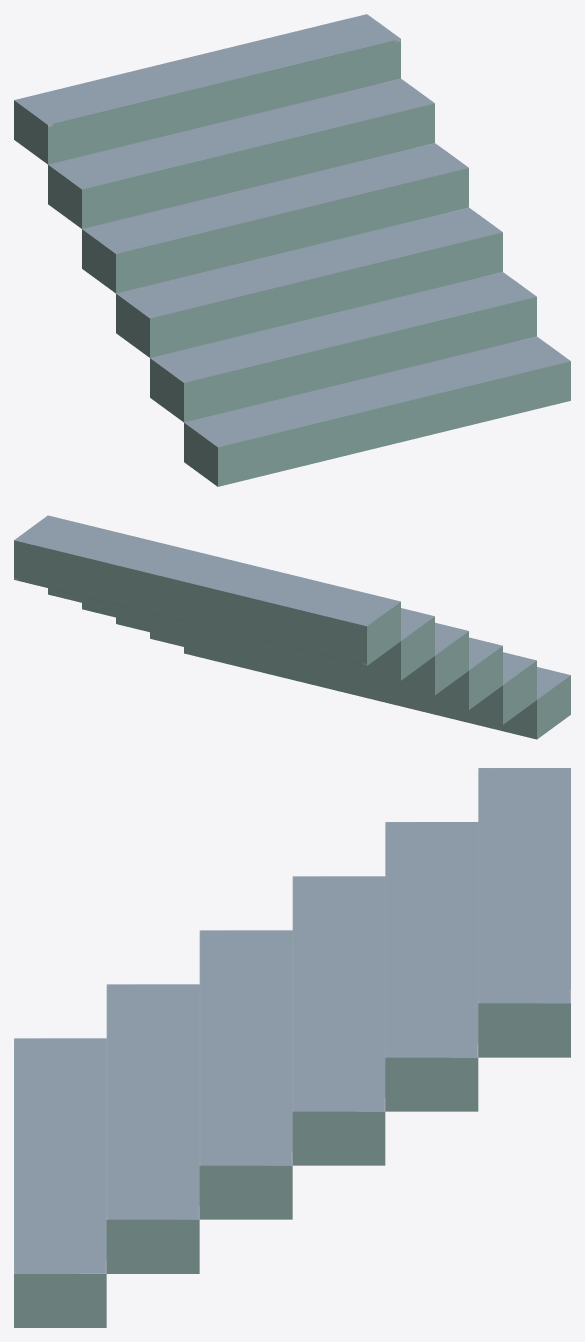
Rendered from StairsFlt2x2x1_5Simp.gltf.
3 views of the same model, one above another, from view 1: azimuth 30°, elevation 25°; view 2: azimuth 150°, elevation 25°; view 3: azimuth 270°, elevation 25° (orthographic). The views are drawn at different scales.
Parts seen in each view (by area): view 1: StairsFlt2x2x1_5SimpShape; view 2: StairsFlt2x2x1_5SimpShape; view 3: StairsFlt2x2x1_5SimpShape.
Boxes of the visible parts, <box> form: StairsFlt2x2x1_5SimpShape: <box>14,14,570,486</box>; StairsFlt2x2x1_5SimpShape: <box>14,515,570,739</box>; StairsFlt2x2x1_5SimpShape: <box>14,768,570,1327</box>.
Size of the model in its own units: 200 by 129 by 200.
1 material, 1 textured.
